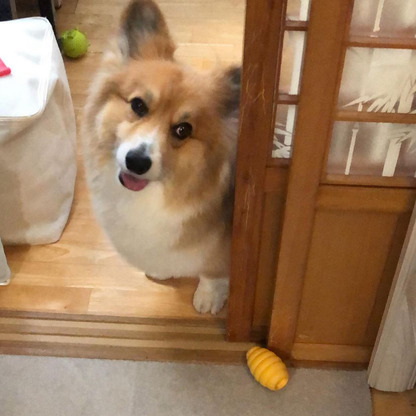Corgi: (89, 23, 261, 307)
